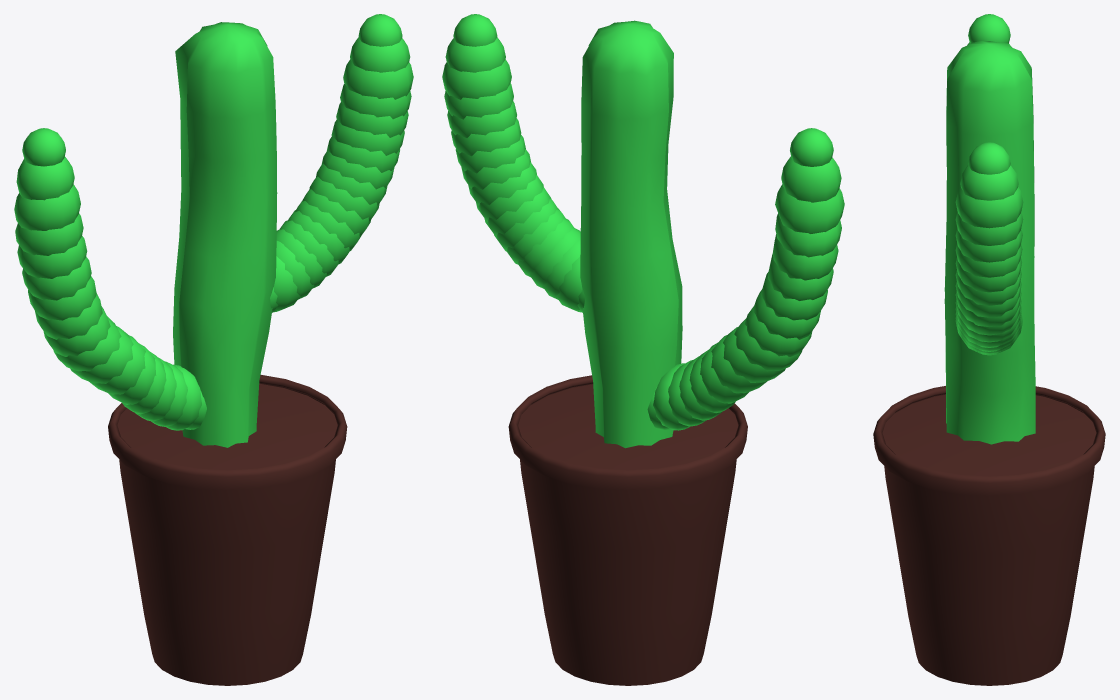
The model's file is Plante08_low.fbx.
3 views of the same model, side by side, from view 1: azimuth 30°, elevation 25°; view 2: azimuth 150°, elevation 25°; view 3: azimuth 270°, elevation 25° (orthographic). The views are drawn at different scales.
Visible parts, largest first — view 1: 08_Plante, 08_Pot, 08_Terre; view 2: 08_Plante, 08_Pot, 08_Terre; view 3: 08_Pot, 08_Plante, 08_Terre.
Part boxes in pixels (bbox=[...]): 08_Plante: bbox=[14, 14, 413, 447]; 08_Pot: bbox=[108, 375, 347, 685]; 08_Terre: bbox=[117, 383, 337, 470]; 08_Plante: bbox=[442, 14, 844, 448]; 08_Pot: bbox=[508, 375, 747, 685]; 08_Terre: bbox=[518, 384, 738, 470]; 08_Pot: bbox=[873, 386, 1105, 685]; 08_Plante: bbox=[944, 14, 1035, 444]; 08_Terre: bbox=[882, 394, 1096, 476].
Bounding box in the file's own units: 76.98 × 118 × 40.67.
